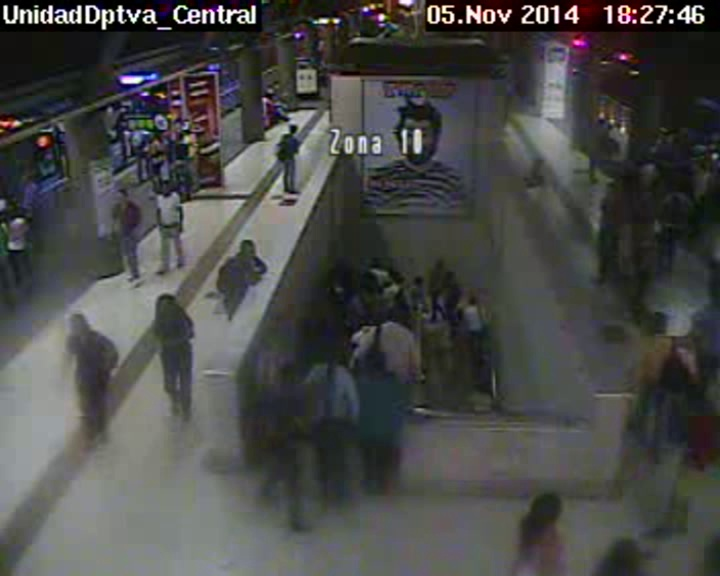person: (524, 491, 564, 528), (647, 311, 673, 337), (155, 293, 180, 318), (677, 379, 700, 405), (67, 312, 91, 336), (364, 354, 387, 377), (323, 340, 343, 365), (273, 365, 294, 388), (358, 272, 377, 293), (237, 240, 257, 259), (379, 304, 397, 323), (621, 160, 638, 179), (636, 191, 652, 209), (117, 186, 133, 203), (10, 204, 26, 219), (158, 181, 175, 195), (667, 183, 682, 197), (327, 269, 341, 284), (284, 122, 298, 136), (388, 272, 402, 286), (604, 177, 618, 191), (412, 274, 425, 289), (173, 150, 189, 162), (643, 150, 655, 164), (467, 295, 479, 308), (702, 158, 713, 172), (172, 118, 183, 131), (533, 159, 544, 171), (435, 257, 445, 269), (369, 257, 380, 267), (449, 272, 458, 284), (183, 123, 193, 133), (153, 130, 162, 141), (595, 121, 605, 130), (266, 90, 274, 98), (265, 84, 273, 92), (136, 120, 144, 128), (506, 79, 514, 86), (273, 81, 280, 88)
